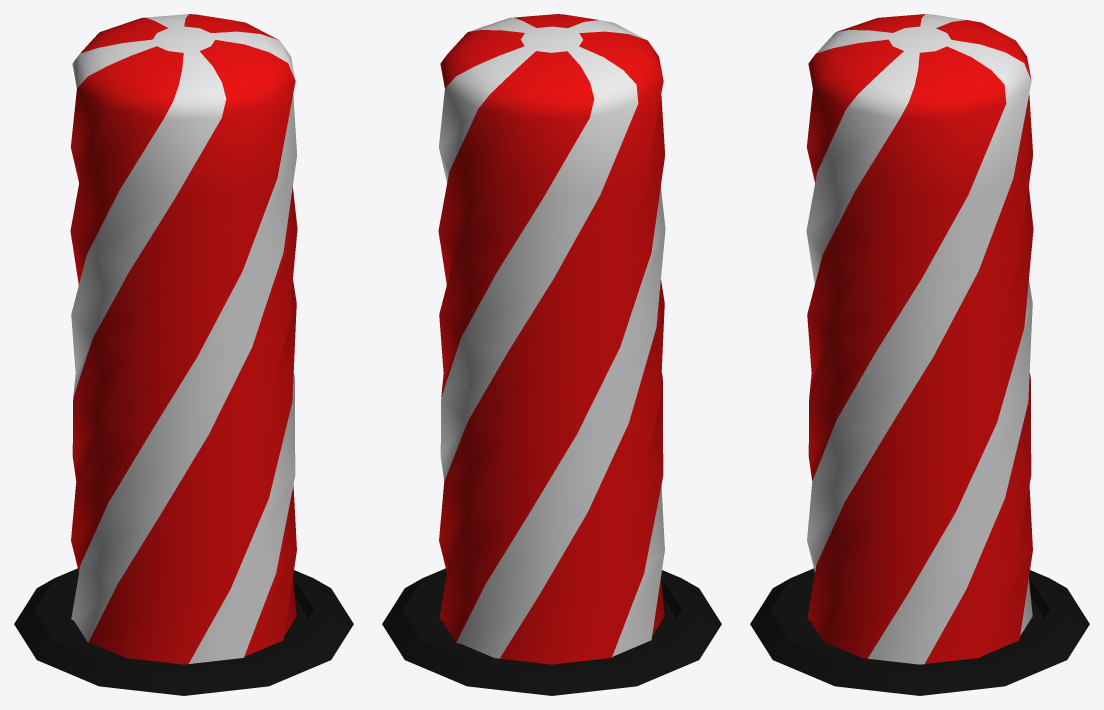
The picture shows the model from 3 angles, left to right: view 1: azimuth 30°, elevation 25°; view 2: azimuth 150°, elevation 25°; view 3: azimuth 270°, elevation 25°; orthographic projection.
Parts seen in each view (by area): view 1: Capsule_02, Hole_Capsule_02; view 2: Capsule_02, Hole_Capsule_02; view 3: Capsule_02, Hole_Capsule_02.
Boxes of the visible parts, left/top/right/bottom form: Capsule_02: left=70, top=14, right=297, bottom=664; Hole_Capsule_02: left=14, top=568, right=353, bottom=695; Capsule_02: left=438, top=14, right=665, bottom=664; Hole_Capsule_02: left=382, top=568, right=721, bottom=695; Capsule_02: left=806, top=14, right=1033, bottom=664; Hole_Capsule_02: left=750, top=568, right=1089, bottom=695.
Bounding box in the file's own units: 2.68 × 2.68 × 5.09.
